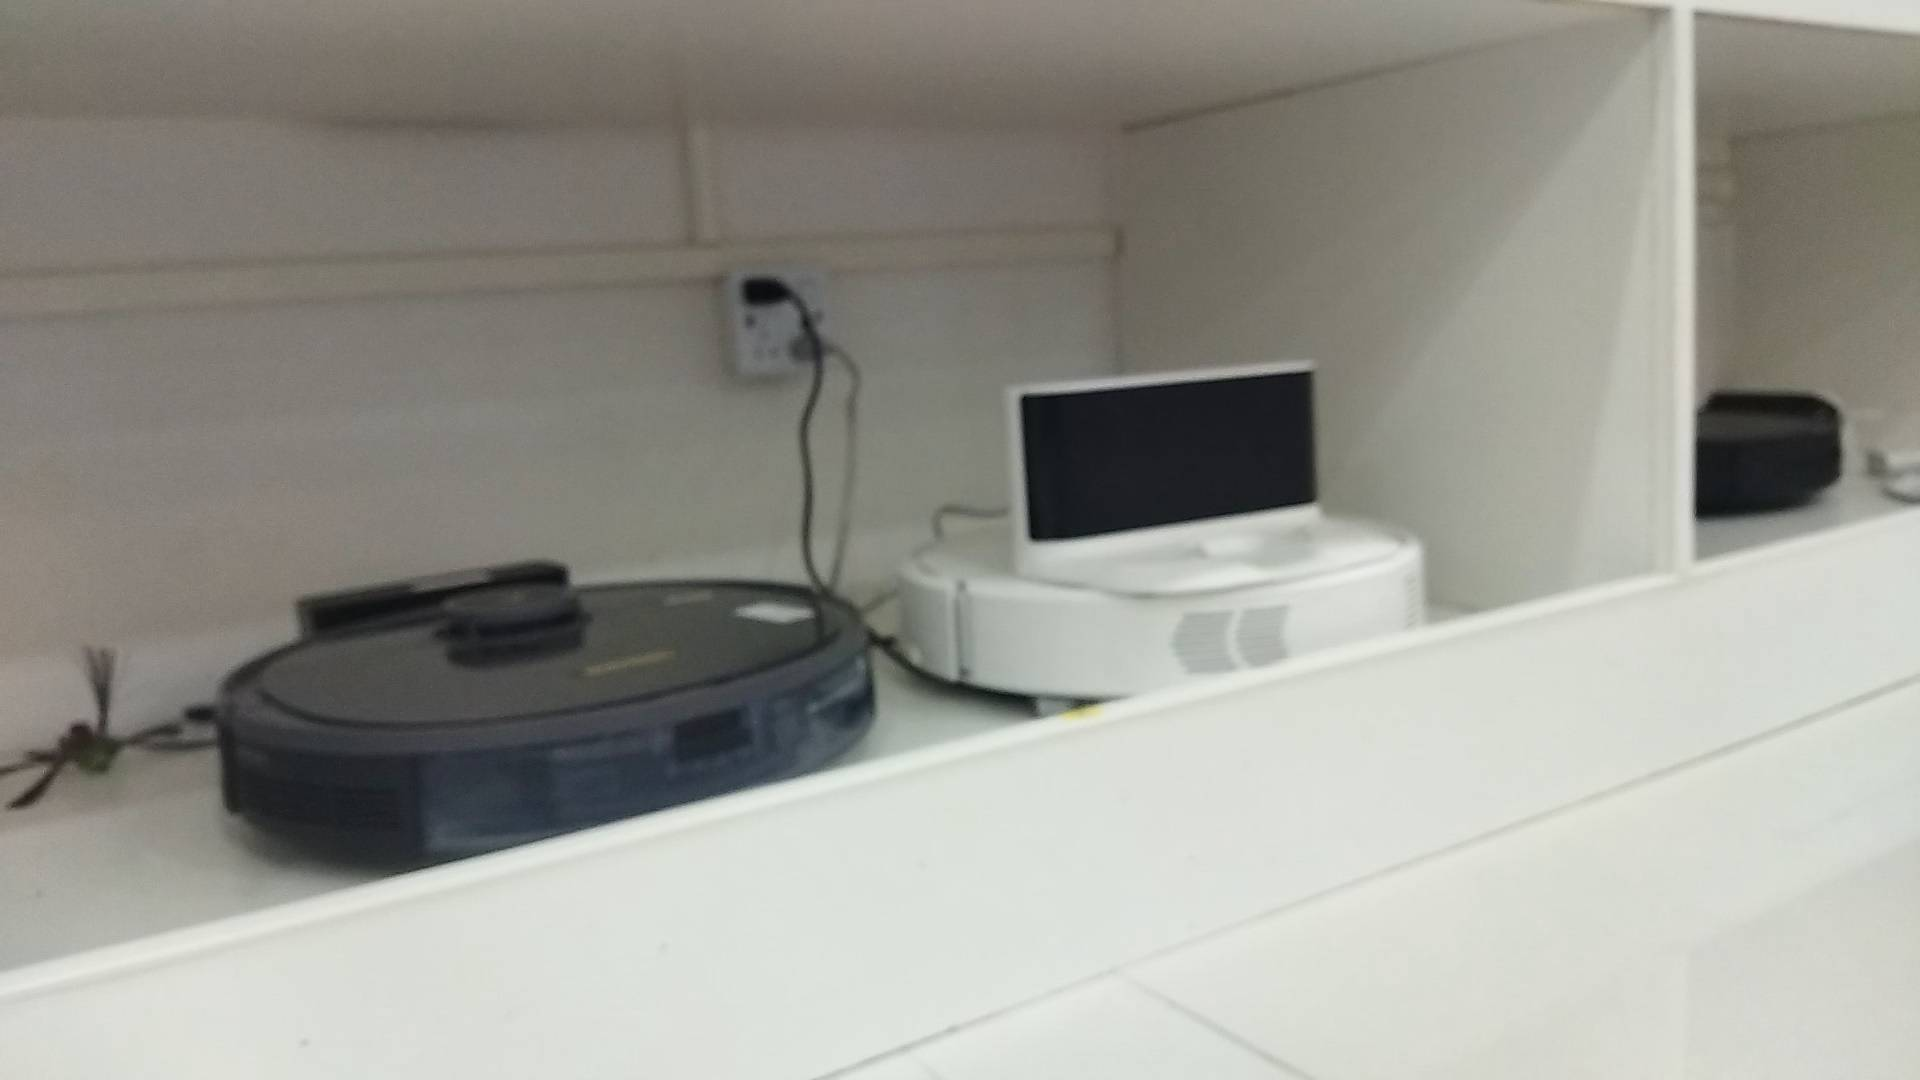recharge seat: (1004, 360, 1400, 596)
